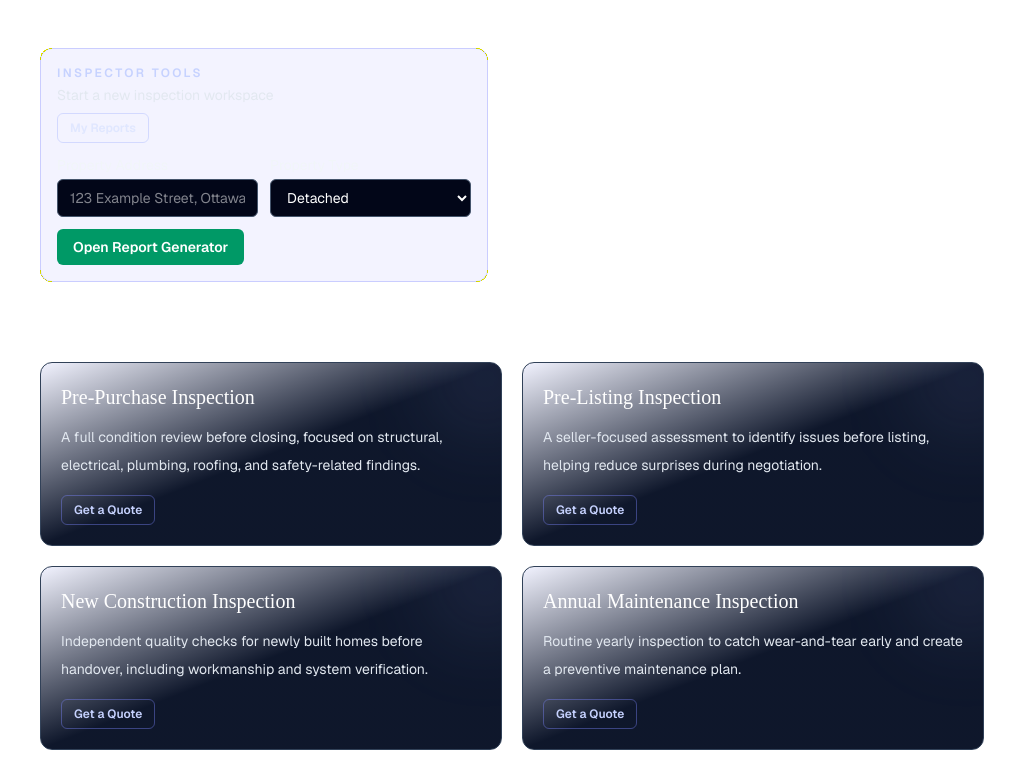
it: ServiceDetail › shows launch error if inspection start request fails
This screenshot has width=1024, height=768.
Expected: the button "Open Report Generator" is shown, [57,229,244,265]
Type "88 Main St" into the field labelled "Property Address" at [158, 198], box [57,179,258,217]
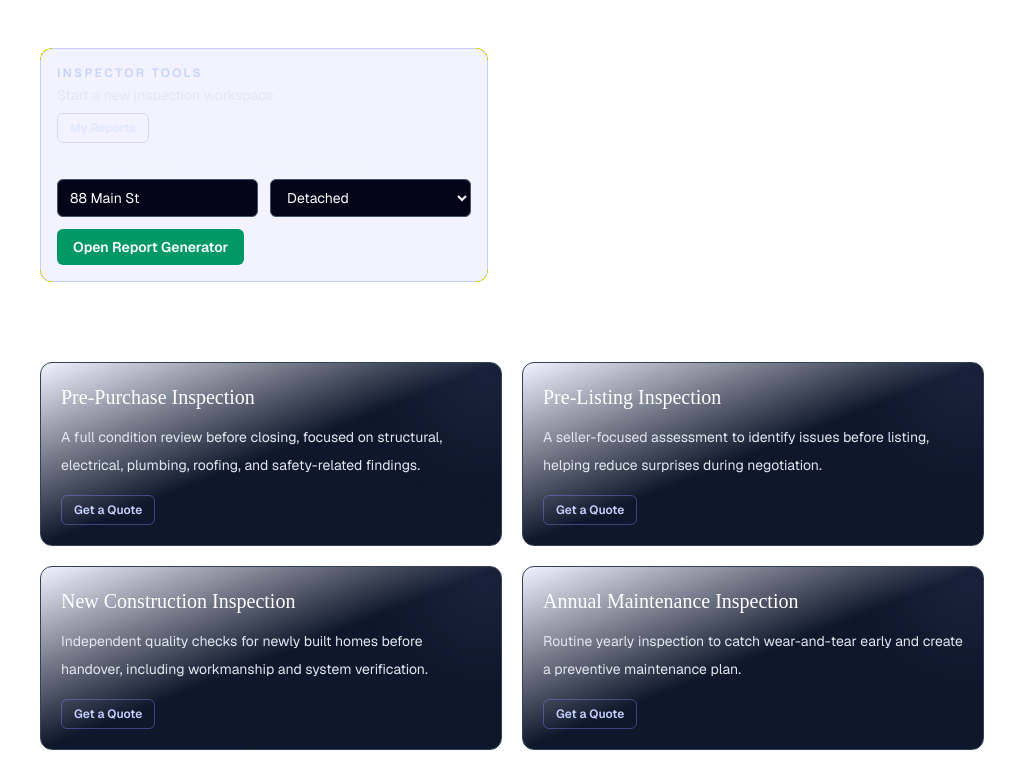
Click the button "Open Report Generator" at [151, 247], box [57,229,244,265]
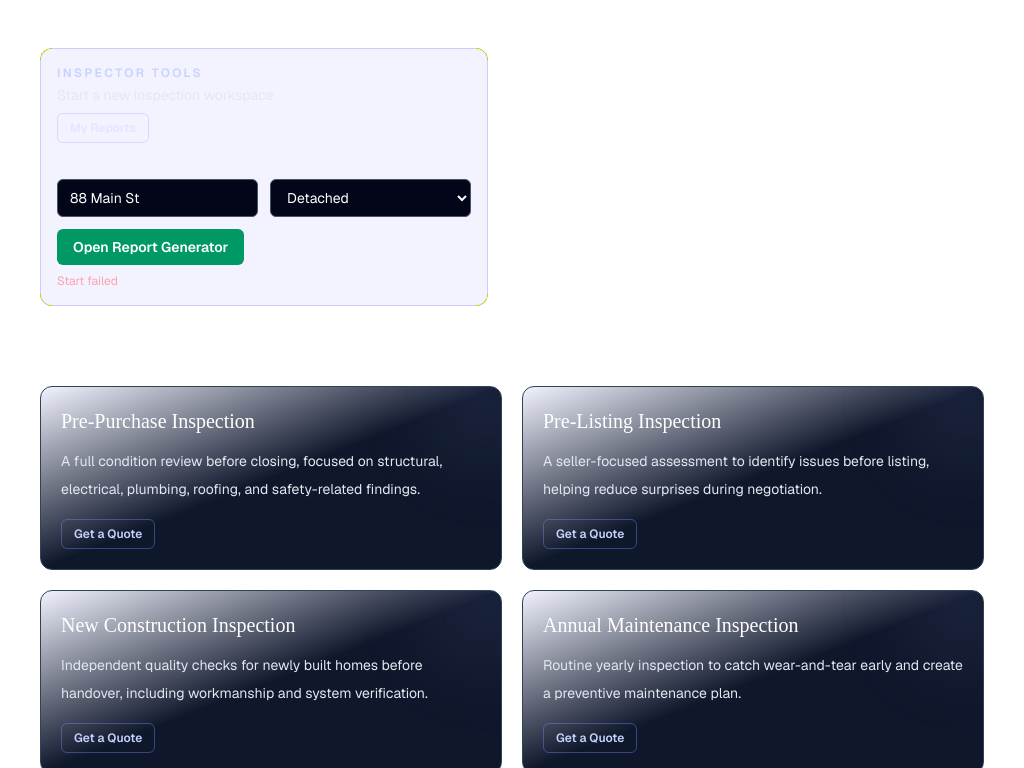
Now the text "Start failed" is shown, box [57,273,118,289]
